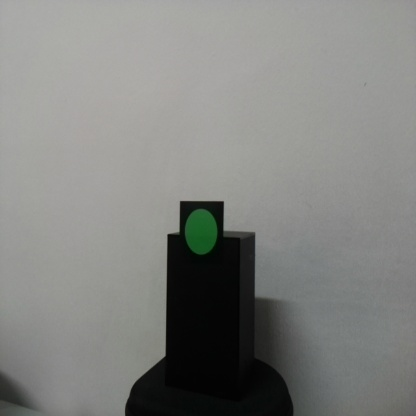id_5: (179, 202, 225, 268)
